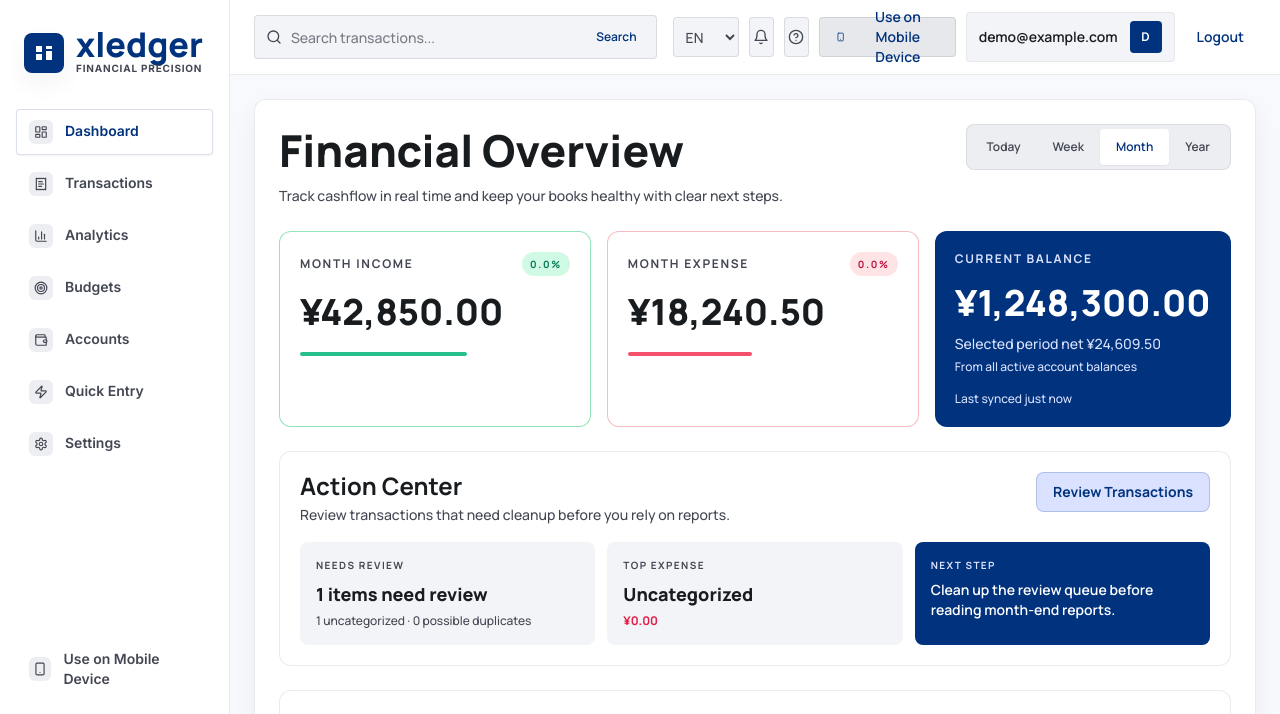
Test: language switching › switches dashboard text to readable Chinese
expect the heading "Financial Overview" is shown: met, box [279,121,684,181]
Select "中文" in the dropdown named "select language" at (706,37), box [673,17,739,57]
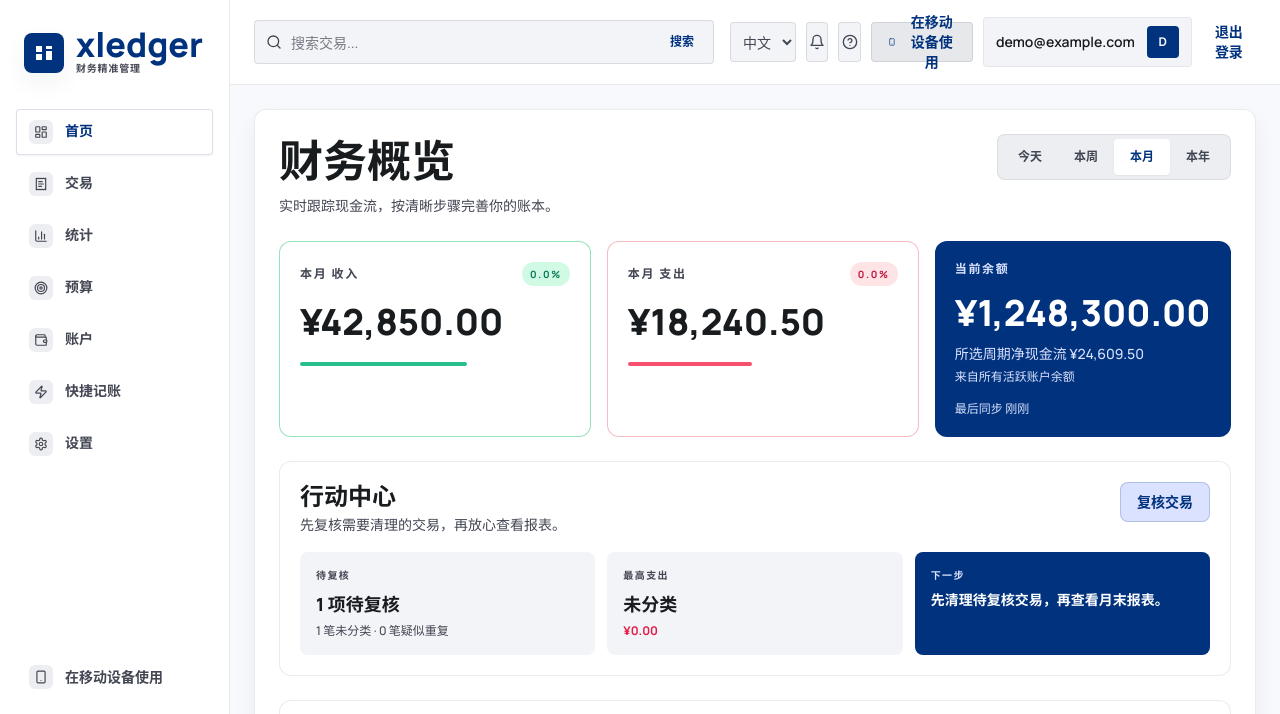
expect the heading "财务概览" is shown: met, box [279,131,455,191]
expect the link "首页" is shown: met, box [16,109,213,155]
expect the link "交易" is shown: met, box [29,172,93,196]
